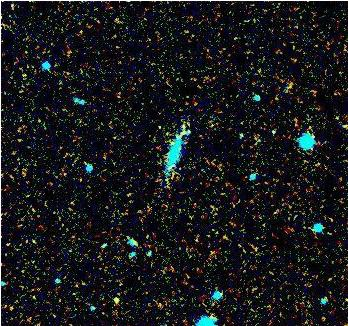star: (101, 283, 131, 313)
